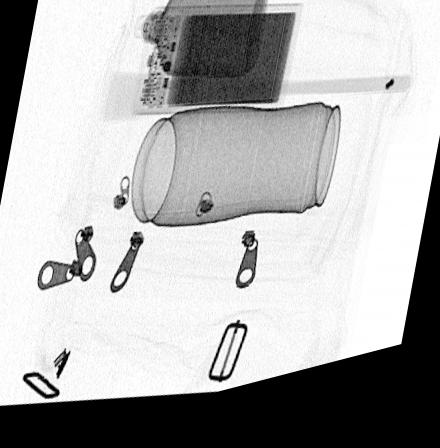Powerbank: (129, 12, 305, 122)
